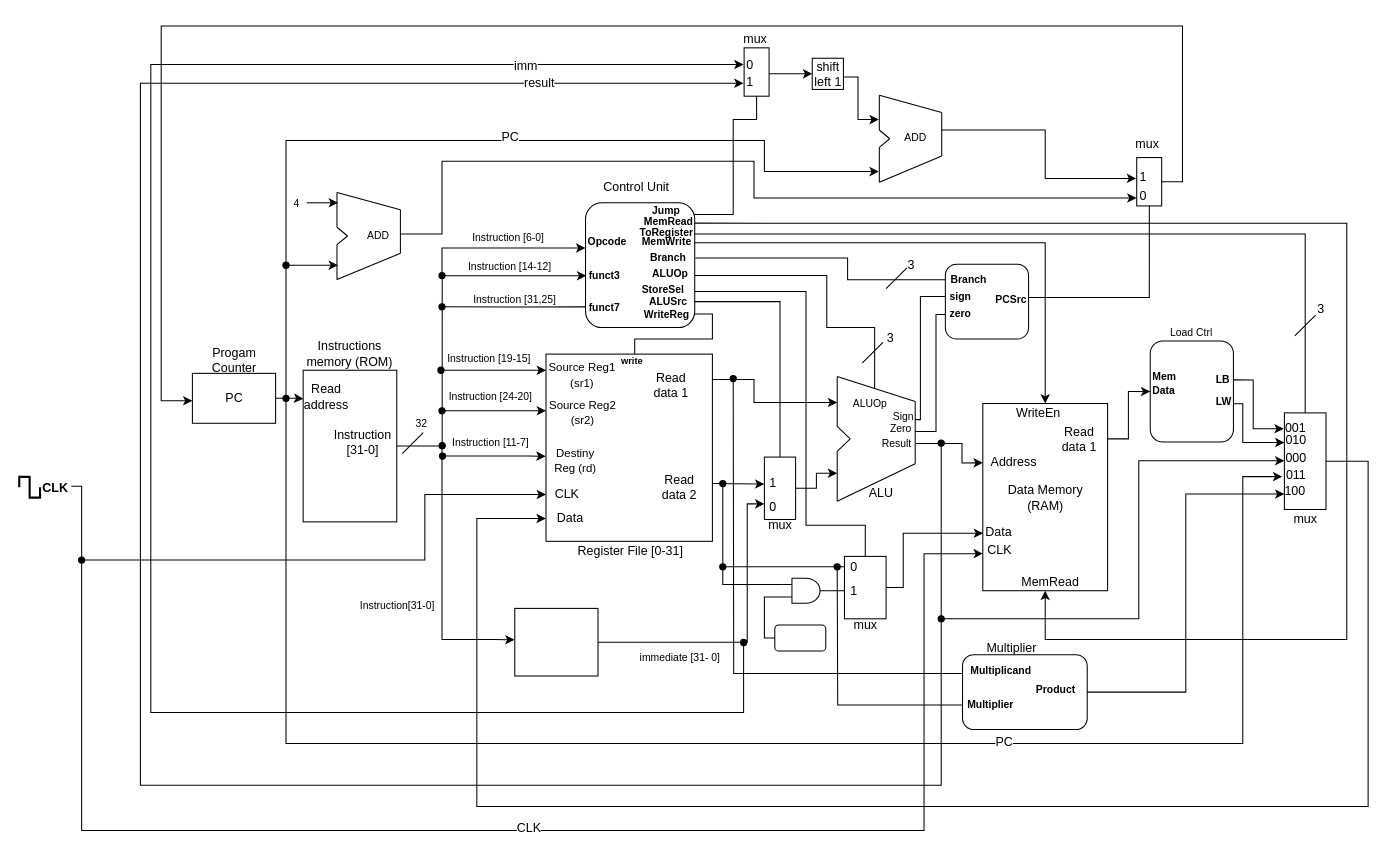
This 1395x858 diagram has some shape labels left out. Here are the shapes that lost their labels. From the top down, the centre of each, then its label:
At (x=556, y=641): "Immediate Generator".
At (x=800, y=637): "byte mask".
